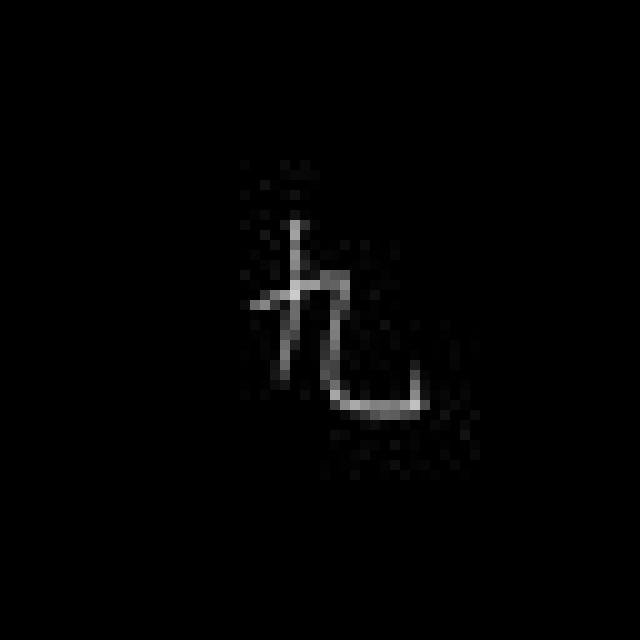9 -nine-: (245, 220, 434, 433)
